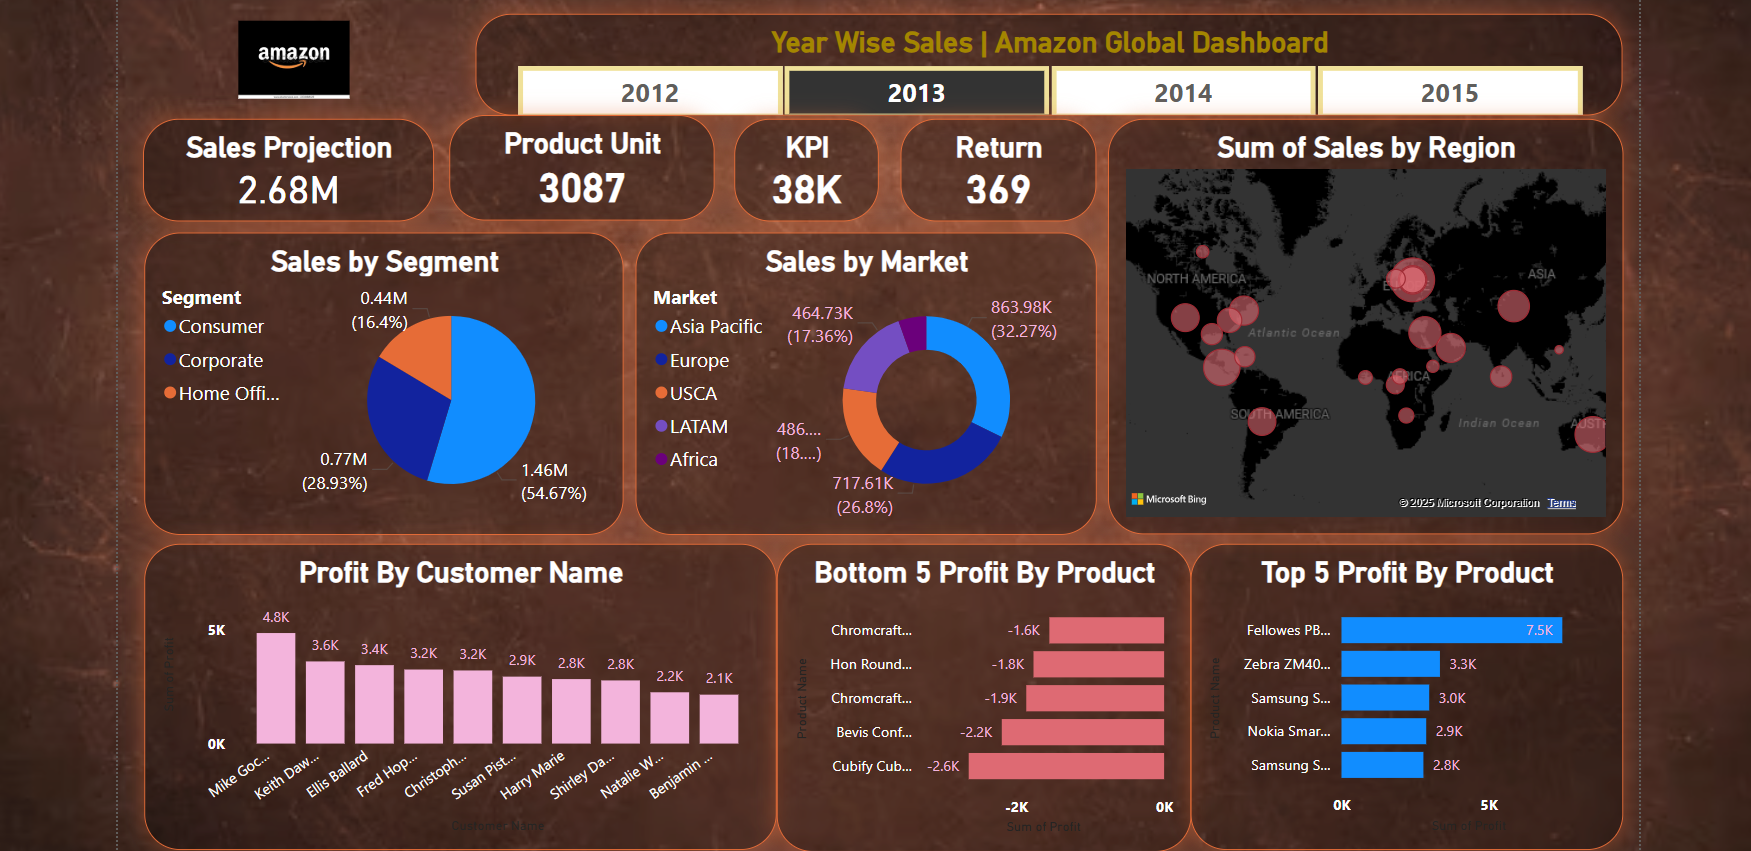

This screenshot's page, from the dashboard's own definition file:
{"tool":"powerbi","page":{"name":"Amazon Dashboard","canvas":[1280,720],"ordinal":1},"visuals":[{"type":"slicer","title":"Year Wise Sales | Amazon Global Dashboard","fields":{"Values":["Orders.Year"]},"box":[300.9,15.8,964.8,85.7],"z":0},{"type":"card","title":"Return","fields":{"Values":["Orders.Ship Date"]},"box":[658.2,103.7,164.6,86.8],"z":1000},{"type":"card","title":"KPI ","fields":{"Values":["Orders.Quantity"]},"box":[518.5,103.7,121.7,86.8],"z":2000},{"type":"card","title":"Product Unit","fields":{"Values":["Orders.Product Name"]},"box":[278.4,101.4,223.2,89],"z":3000},{"type":"card","title":"Sales Projection","fields":{"Values":["Orders.Sales"]},"box":[21.4,103.7,244.6,86.8],"z":4000},{"type":"pieChart","title":"Sales by Segment","fields":{"Y":["Orders.Sales"],"Category":["Orders.Segment"]},"box":[22.2,199.4,403.4,254.2],"z":5000},{"type":"donutChart","title":"Sales by Market","fields":{"Y":["Orders.Sales"],"Category":["Orders.Market"]},"box":[434.9,199.4,388.3,254.2],"z":6000},{"type":"columnChart","title":"Profit By Customer Name","fields":{"Category":["Orders.Customer Name"],"Y":["Orders.Profit"]},"box":[22.2,461.7,531.7,257.7],"z":7000},{"type":"clusteredBarChart","title":"Bottom 5 Profit By  Product","fields":{"Category":["Orders.Product Name"],"Y":["Orders.Profit"]},"box":[553.8,461.7,348.6,258.8],"z":8000},{"type":"clusteredBarChart","title":"Top 5 Profit By Product","fields":{"Y":["Orders.Profit"],"Category":["Orders.Product Name"]},"box":[902.5,461.7,363.8,257.7],"z":9000},{"type":"map","fields":{"Category":["Orders.Region"],"Size":["Orders.Sales"]},"box":[832.5,103.8,433.7,349.8],"z":10000},{"type":"image","box":[8.2,16.3,279.8,75.8],"z":11000}]}

Visuals, with their boxes on the page's 1280x720 design canvas (x1, y1, x2, y2). These are canvas units, not pixel positions in the 1751x851 screenshot, which may show the page scaled, cropped or inside an application window:
"Year Wise Sales | Amazon Global Dashboard" slicer: rect(301, 16, 1266, 102)
"Return" card: rect(658, 104, 823, 190)
"KPI " card: rect(518, 104, 640, 190)
"Product Unit" card: rect(278, 101, 502, 190)
"Sales Projection" card: rect(21, 104, 266, 190)
"Sales by Segment" pieChart: rect(22, 199, 426, 454)
"Sales by Market" donutChart: rect(435, 199, 823, 454)
"Profit By Customer Name" columnChart: rect(22, 462, 554, 719)
"Bottom 5 Profit By  Product" clusteredBarChart: rect(554, 462, 902, 720)
"Top 5 Profit By Product" clusteredBarChart: rect(902, 462, 1266, 719)
map - Orders.Region x Orders.Sales: rect(832, 104, 1266, 454)
image: rect(8, 16, 288, 92)
